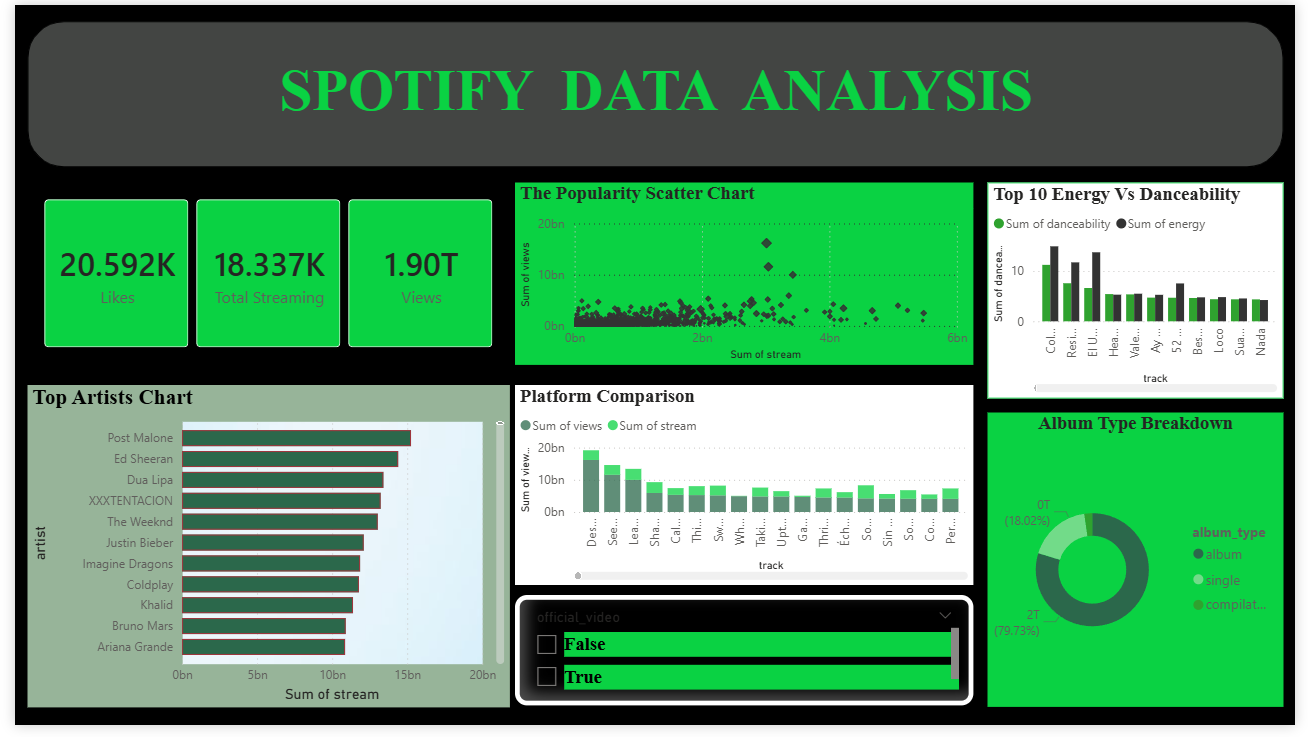

The dashboard page shown, as its layout file describes it:
{"tool":"powerbi","page":{"name":"Page 1","canvas":[1280,720],"ordinal":0},"visuals":[{"type":"cardVisual","fields":{"Data":["CountNonNull(public spotify.likes)","Count(public spotify.stream)","Sum(public spotify.views)"]},"box":[12,178,482,182],"z":0},{"type":"clusteredBarChart","title":"Top Artists Chart","fields":{"Category":["public spotify.artist"],"Y":["Sum(public spotify.stream)"]},"box":[12,380,482,322],"z":1000},{"type":"slicer","title":"dfbdfb","fields":{"Values":["public spotify.official_video"]},"box":[500,590,458,110],"z":2000},{"type":"columnChart","title":"Platform Comparison","fields":{"Category":["public spotify.track"],"Y":["Sum(public spotify.views)","Sum(public spotify.stream)"]},"box":[500,380,458,200],"z":3000},{"type":"scatterChart","title":"The Popularity Scatter Chart","fields":{"Category":["public spotify.track"],"X":["Sum(public spotify.stream)"],"Y":["Sum(public spotify.views)"],"Size":["Sum(public spotify.likes)"]},"box":[500,178,458,182],"z":4000},{"type":"donutChart","title":"Album Type Breakdown","fields":{"Category":["public spotify.album_type"],"Y":["Sum(public spotify.stream)"]},"box":[972,408,296,294],"z":5000},{"type":"clusteredColumnChart","title":"Top 10 Energy Vs Danceability","fields":{"Category":["public spotify.track"],"Y":["Sum(public spotify.danceability)","Sum(public spotify.energy)"]},"box":[972,178,296,216],"z":6000},{"type":"shape","box":[12,16,1256,146],"z":6001},{"type":"textbox","box":[100,48,1082,94],"z":6002}]}

Visuals, with their boxes in screenshot pixels (x1, y1, x2, y2), scaled from the page's 1280x720 canvas onto the 1308x737 screenshot:
cardVisual - CountNonNull(public spotify.likes) x Count(public spotify.stream): bbox(12, 182, 505, 368)
"Top Artists Chart" clusteredBarChart: bbox(12, 389, 505, 719)
"dfbdfb" slicer: bbox(511, 604, 979, 717)
"Platform Comparison" columnChart: bbox(511, 389, 979, 594)
"The Popularity Scatter Chart" scatterChart: bbox(511, 182, 979, 368)
"Album Type Breakdown" donutChart: bbox(993, 418, 1296, 719)
"Top 10 Energy Vs Danceability" clusteredColumnChart: bbox(993, 182, 1296, 403)
shape: bbox(12, 16, 1296, 166)
textbox: bbox(102, 49, 1208, 145)
